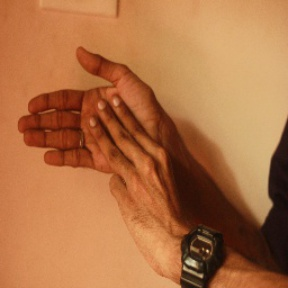M: (18, 41, 165, 187)
